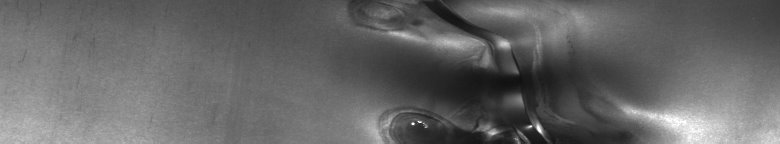ke: (383, 4, 568, 136)
